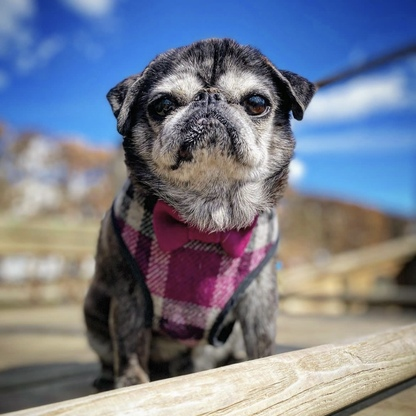Pug: (76, 32, 320, 393)
